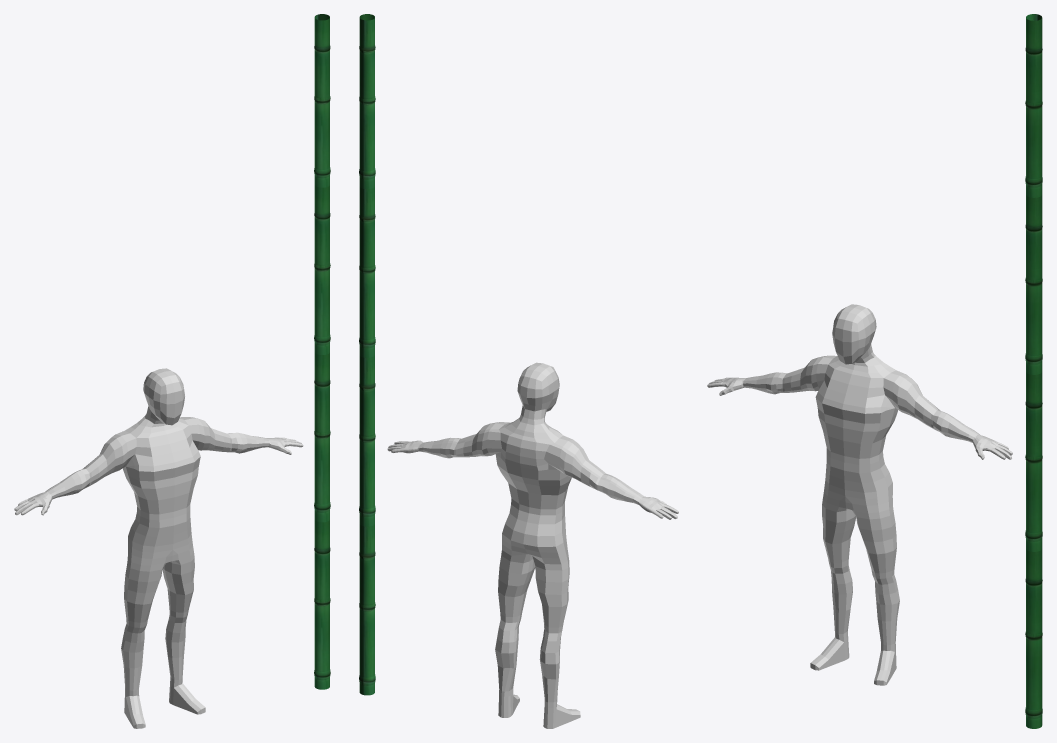
Rendered from bamboo.glb.
3 views of the same model, side by side, from view 1: azimuth 30°, elevation 25°; view 2: azimuth 150°, elevation 25°; view 3: azimuth 330°, elevation 25° (orthographic). The views are drawn at different scales.
Visible parts, largest first — view 1: Plane, Cylinder; view 2: Plane, Cylinder; view 3: Plane, Cylinder.
Boxes of the visible parts, bbox=[...] form: Plane: bbox=[14, 368, 303, 728]; Cylinder: bbox=[314, 14, 330, 689]; Plane: bbox=[387, 362, 678, 728]; Cylinder: bbox=[359, 14, 375, 695]; Plane: bbox=[707, 304, 1012, 685]; Cylinder: bbox=[1025, 14, 1042, 728].
Size of the model in its own units: 1.92 by 3.9 by 0.3169.
Materials: 1 (1 with a texture image).
